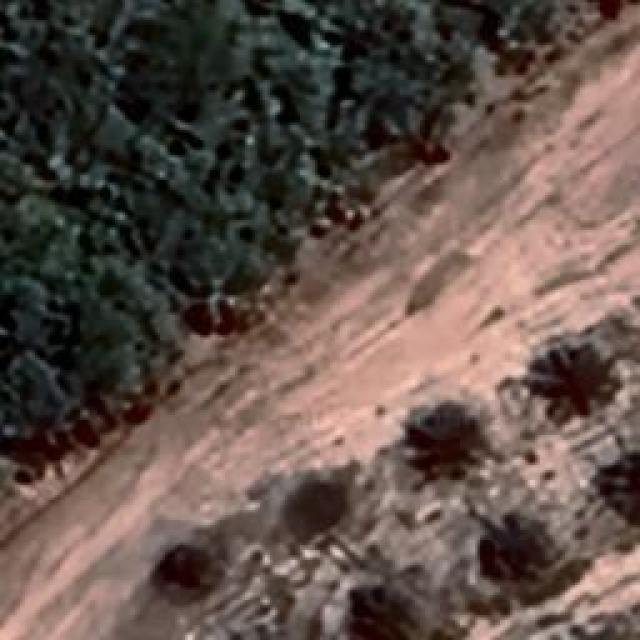PalmTree: (410, 398, 488, 472), (538, 346, 606, 412), (486, 518, 549, 588), (348, 585, 422, 640), (158, 545, 212, 595), (602, 458, 640, 520)
